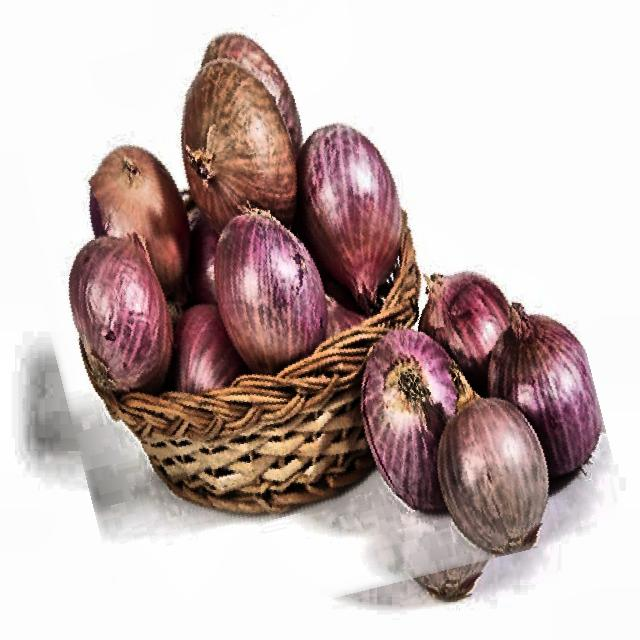onion: (20, 0, 598, 621)
